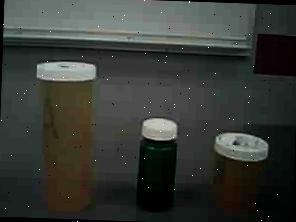Bottle A: (24, 54, 113, 214)
Bottle B: (204, 127, 275, 219)
Bottle C: (130, 115, 188, 215)
